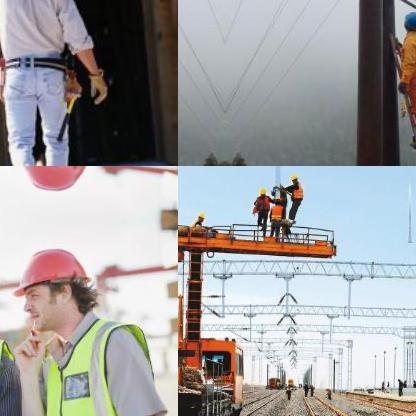Helmet: (12, 236, 96, 332), (11, 166, 99, 202), (402, 10, 415, 35), (194, 209, 206, 223), (288, 171, 300, 185), (256, 186, 266, 198)
